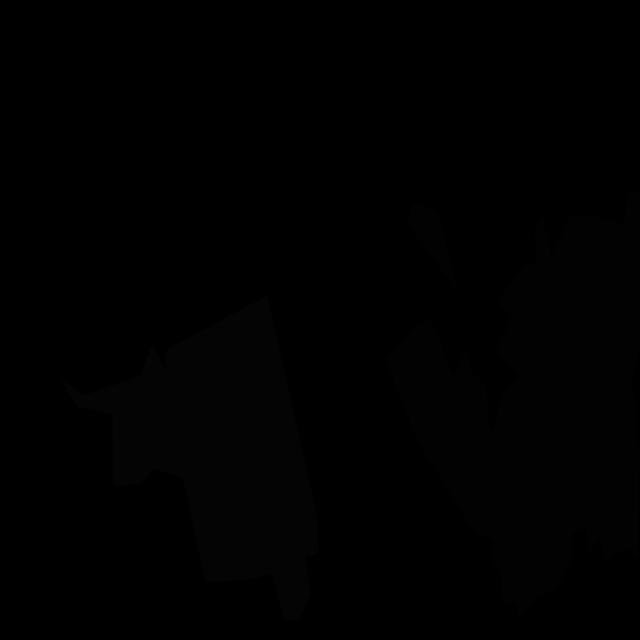cardboard: (386, 218, 640, 623), (557, 215, 632, 286), (406, 202, 459, 293), (623, 192, 640, 281)
soft_plastic: (60, 295, 318, 621)
